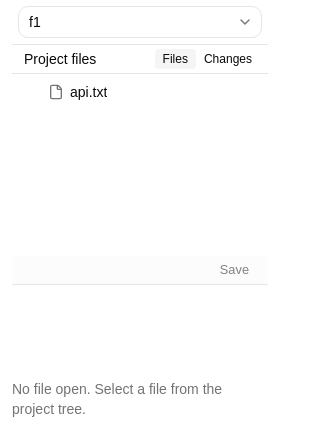
editor workspace (#34) › switching the project folder re-scopes the file tree
Expected: the text "api.txt" is shown, [70,82,107,102]
Step 1. Click the dropdown named "Project folder" → [140, 22], box [18,6,262,38]
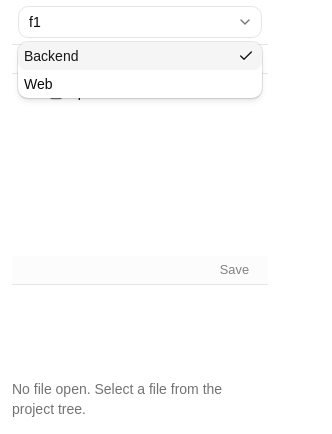
Step 2. Click the option "Web" → [38, 84], box [24,76,52,92]
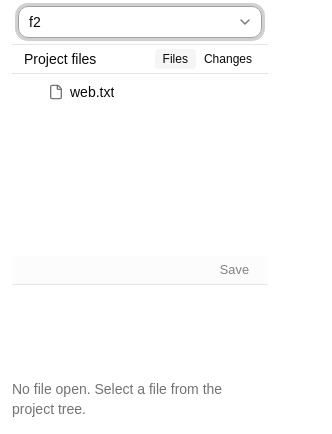
Result: the text "web.txt" is shown at [70,82,114,102]
Result: the button "api.txt" is gone
